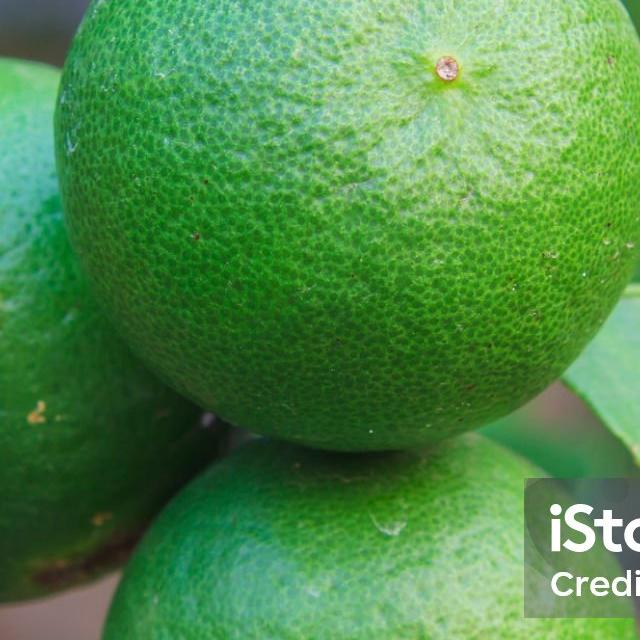lime: (57, 0, 640, 456), (0, 58, 233, 615)
